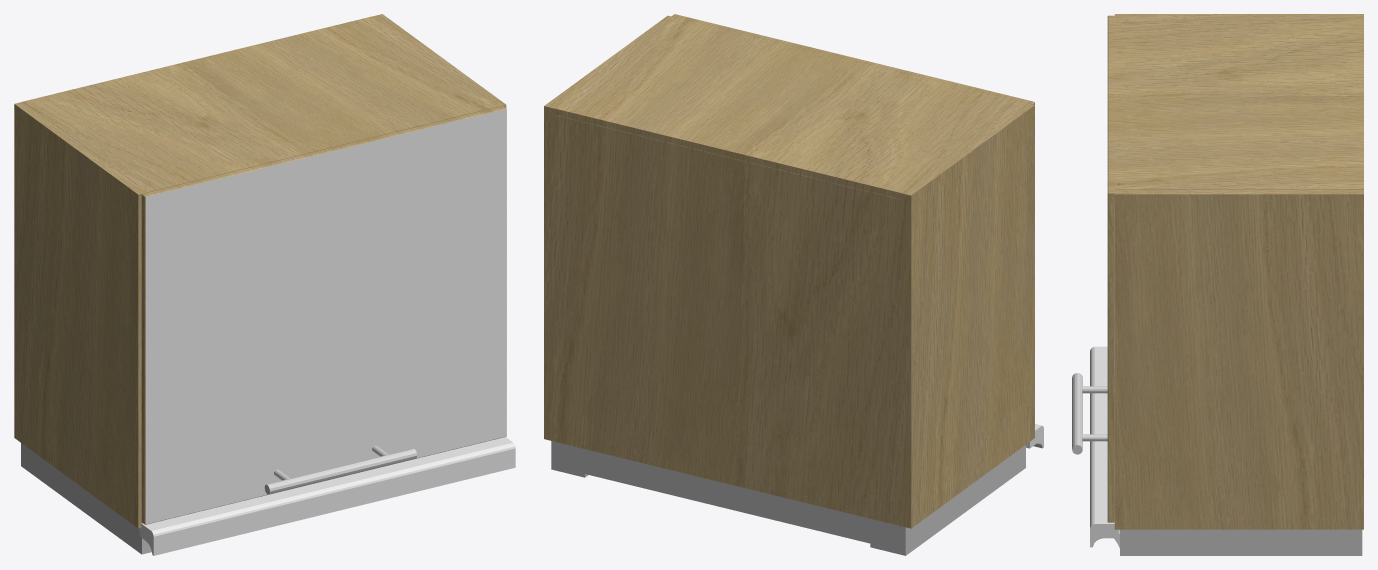
The model's file is b0-smalluppercabinet.glb.
3 renders of one model, left to right at view 1: azimuth 30°, elevation 25°; view 2: azimuth 150°, elevation 25°; view 3: azimuth 270°, elevation 25°, orthographic.
Parts seen in each view (by area): view 1: Cube.009; view 2: Cube.009; view 3: Cube.009.
Boxes of the visible parts, x1,y1,x2,y2 form: Cube.009: (14, 14, 515, 555); Cube.009: (544, 14, 1043, 555); Cube.009: (1072, 14, 1363, 555).
Bounding box in the file's own units: 0.6 × 0.566 × 0.41.
6 materials, 1 textured.
